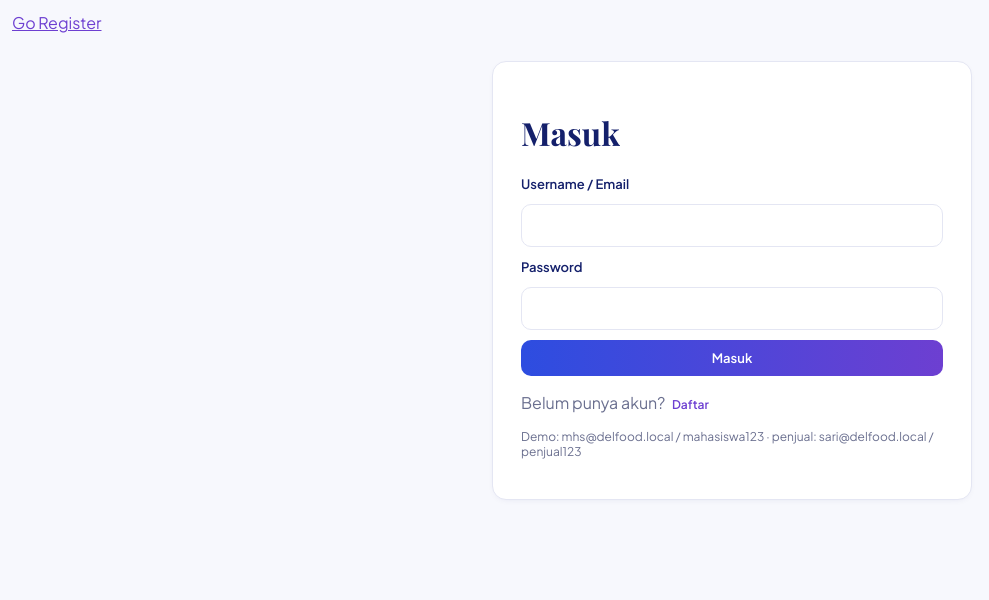
Scenario: Login (mode masuk) › merespons perubahan lokasi URL pathname via effect
Expected: the heading reads "Masuk", [521, 111, 620, 154]
Step 1. Click the link with test id "link-reg" → click(57, 22), box [12, 12, 102, 33]
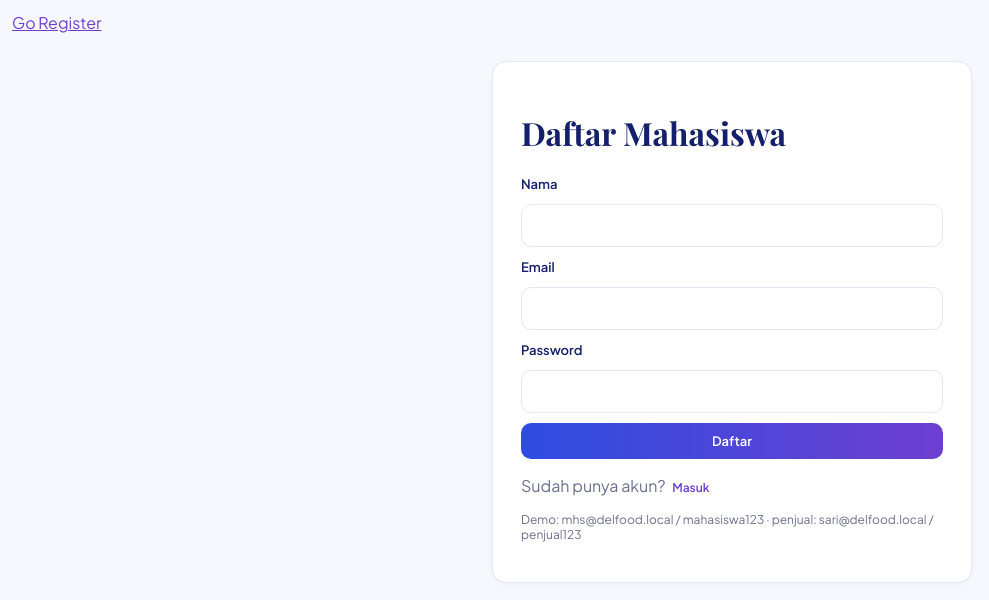
Expected: the heading reads "Daftar Mahasiswa", [521, 111, 786, 154]
